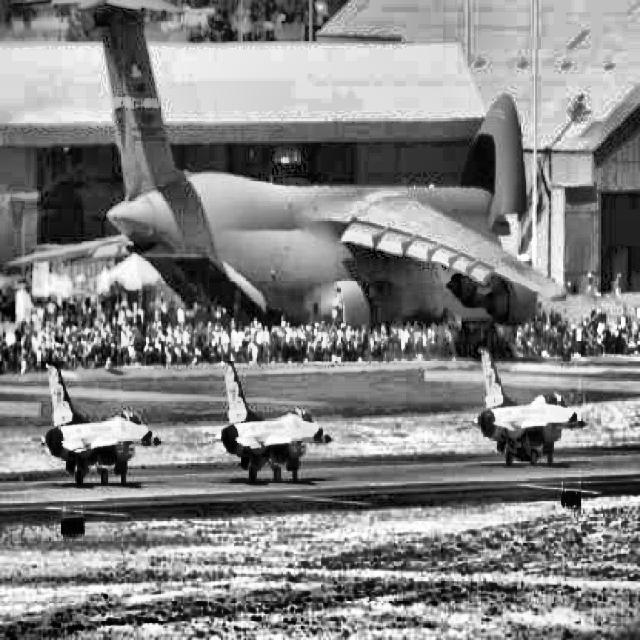C5: (3, 2, 568, 340)
F16: (26, 360, 166, 486), (198, 358, 334, 482), (456, 346, 589, 466)
